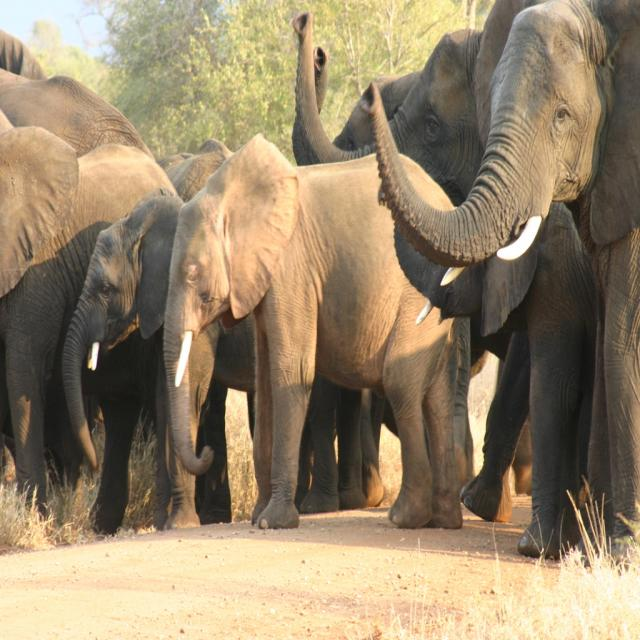elephant: (353, 0, 639, 570), (285, 6, 539, 509), (1, 105, 180, 538), (0, 65, 159, 156)
